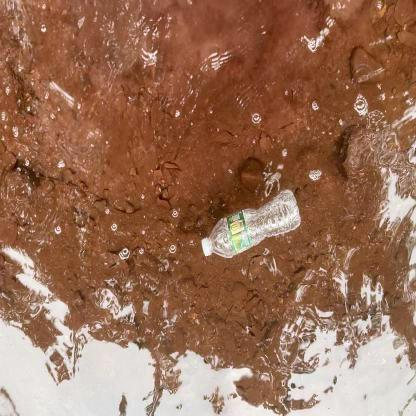Plastic: (195, 184, 304, 261)
